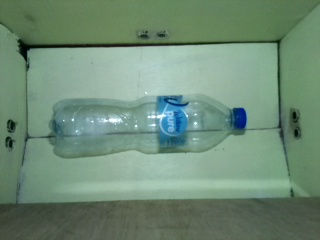bottle: (46, 94, 248, 155)
